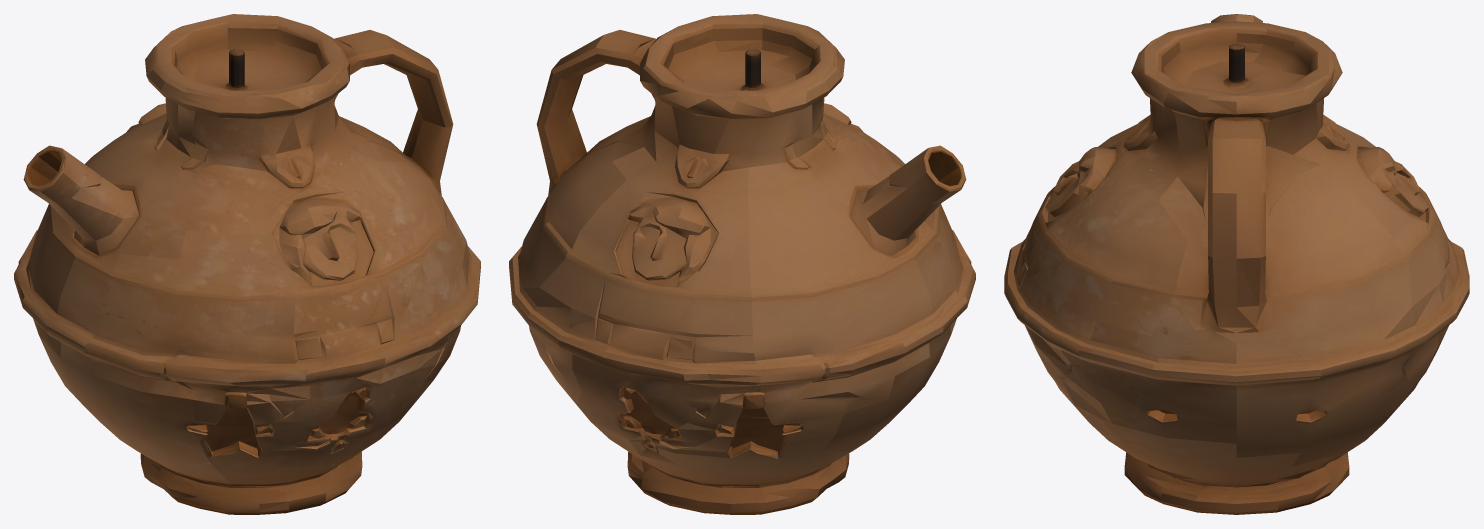
File: item_oil_lamp.glb
The picture shows the model from 3 angles, left to right: view 1: azimuth 30°, elevation 25°; view 2: azimuth 150°, elevation 25°; view 3: azimuth 270°, elevation 25°; orthographic projection.
Parts seen in each view (by area): view 1: item_oil_lamp; view 2: item_oil_lamp; view 3: item_oil_lamp.
Part boxes in pixels (bbox=[...]): item_oil_lamp: bbox=[14, 14, 480, 514]; item_oil_lamp: bbox=[509, 14, 975, 514]; item_oil_lamp: bbox=[1004, 14, 1469, 514].
Bounding box in the file's own units: 0.17 × 0.1623 × 0.1633.
Materials: 1 (1 with a texture image).
